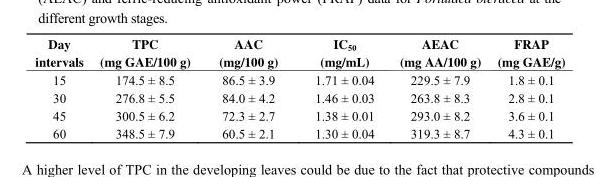table: (34, 34, 564, 140)
table column: (90, 34, 203, 140), (386, 34, 488, 140), (203, 34, 295, 140), (295, 34, 386, 140), (488, 34, 564, 140), (34, 34, 90, 140)
table column header: (34, 34, 564, 71)
table row: (34, 34, 564, 71), (34, 88, 564, 106), (34, 106, 564, 124), (34, 71, 564, 88), (34, 124, 564, 140)
